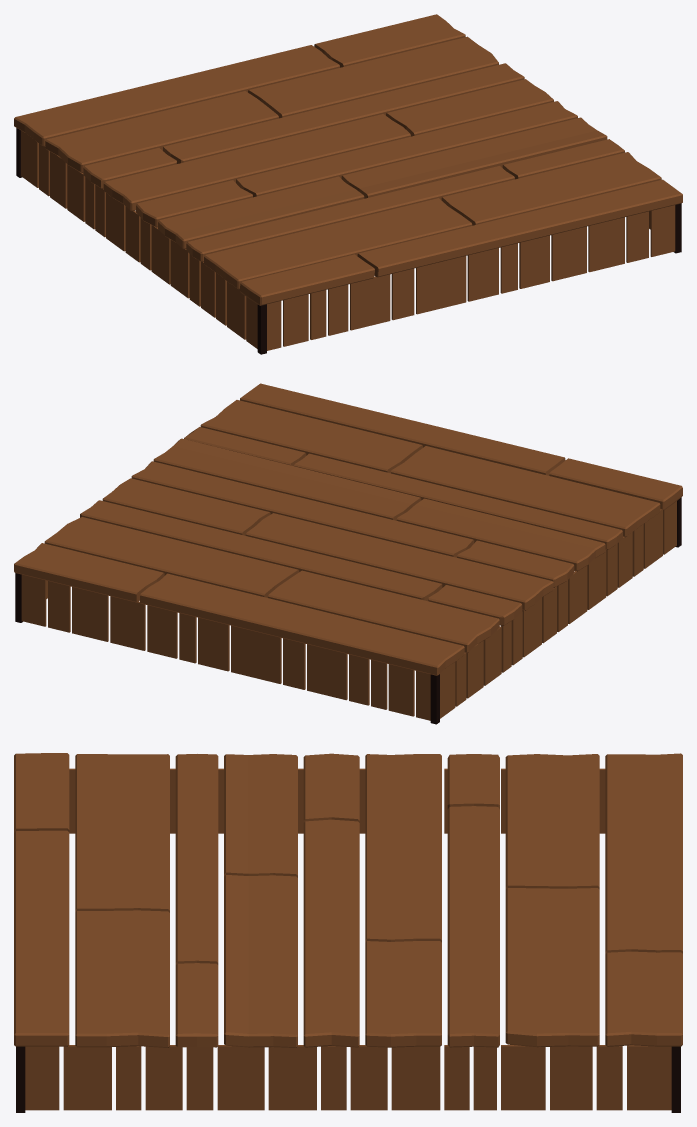
File: ww_foundation_e.glb
3 views of the same model, one above another, from view 1: azimuth 30°, elevation 25°; view 2: azimuth 150°, elevation 25°; view 3: azimuth 270°, elevation 25° (orthographic). The views are drawn at different scales.
Parts seen in each view (by area): view 1: Foundation_E; view 2: Foundation_E; view 3: Foundation_E.
Boxes of the visible parts, <box> form: Foundation_E: <box>14,14,682,354</box>; Foundation_E: <box>14,383,682,724</box>; Foundation_E: <box>14,753,682,1112</box>.
Size of the model in its own units: 5.28 by 0.7109 by 5.28.
